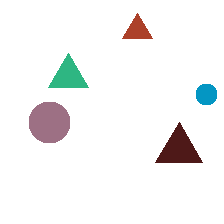circle: (29, 102, 69, 142), (196, 84, 216, 104)
triangle: (155, 122, 202, 162), (48, 53, 88, 87), (122, 13, 152, 38)
